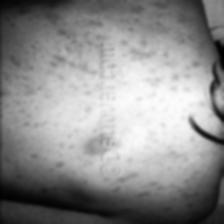Non-Cancerous Skin Condition: (0, 14, 98, 194), (127, 62, 197, 217), (119, 0, 186, 54)
